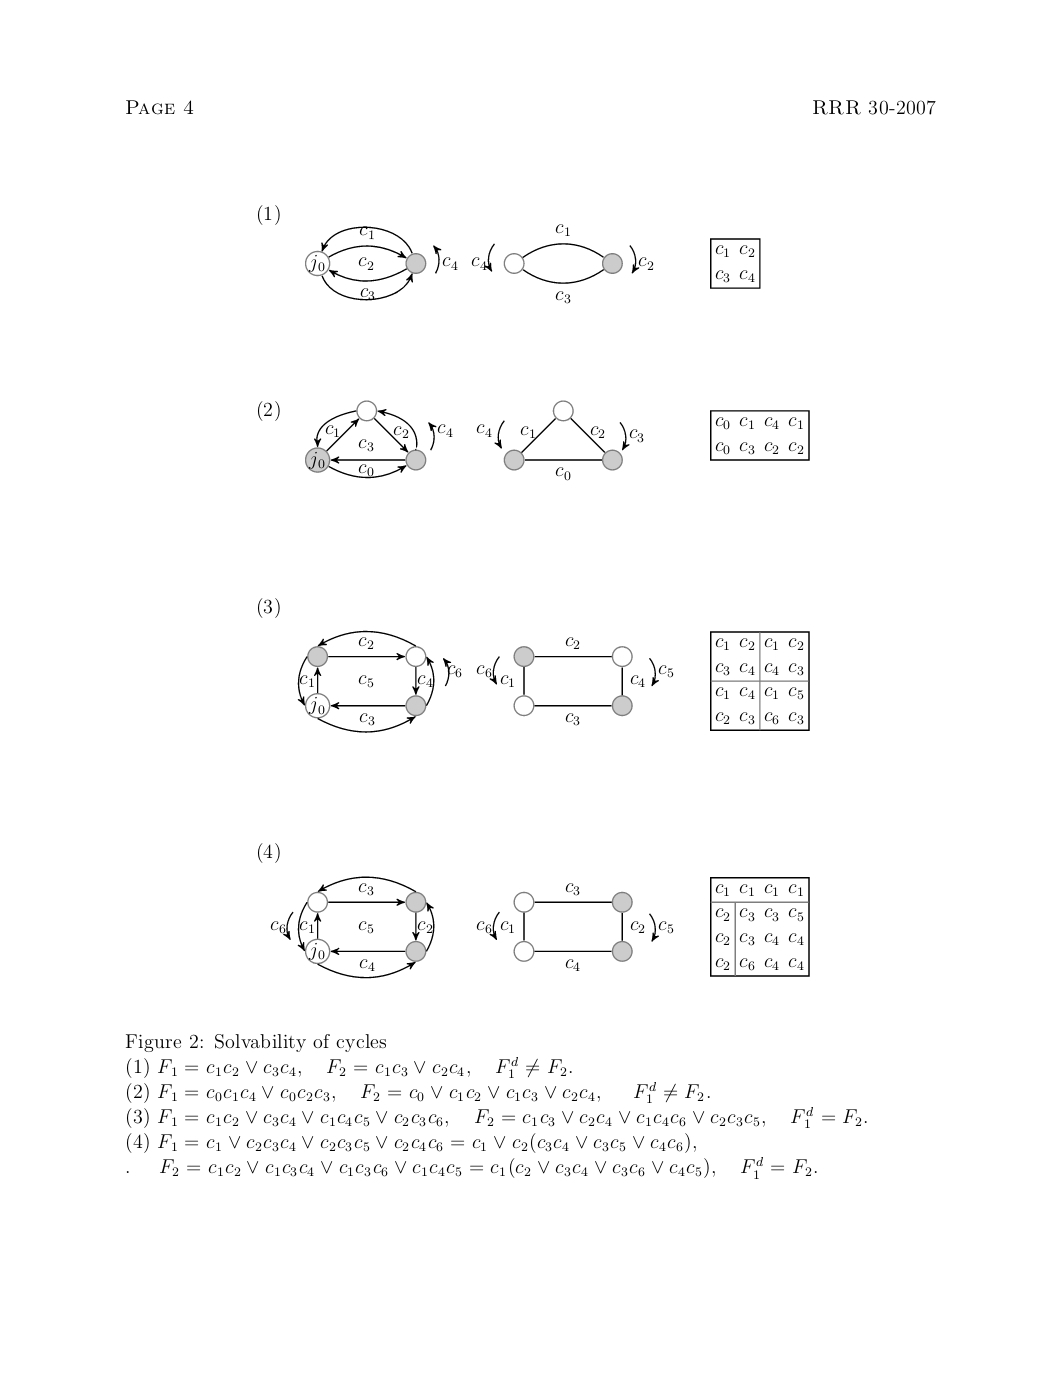figure: (476, 875, 809, 977), (476, 630, 809, 731), (476, 399, 809, 481), (471, 224, 760, 303), (257, 204, 457, 301), (296, 629, 461, 733), (270, 875, 434, 978), (257, 399, 452, 479)
formula: (127, 1106, 866, 1128), (126, 1156, 816, 1179), (127, 1081, 709, 1103), (127, 1132, 695, 1153), (127, 1056, 571, 1077)
